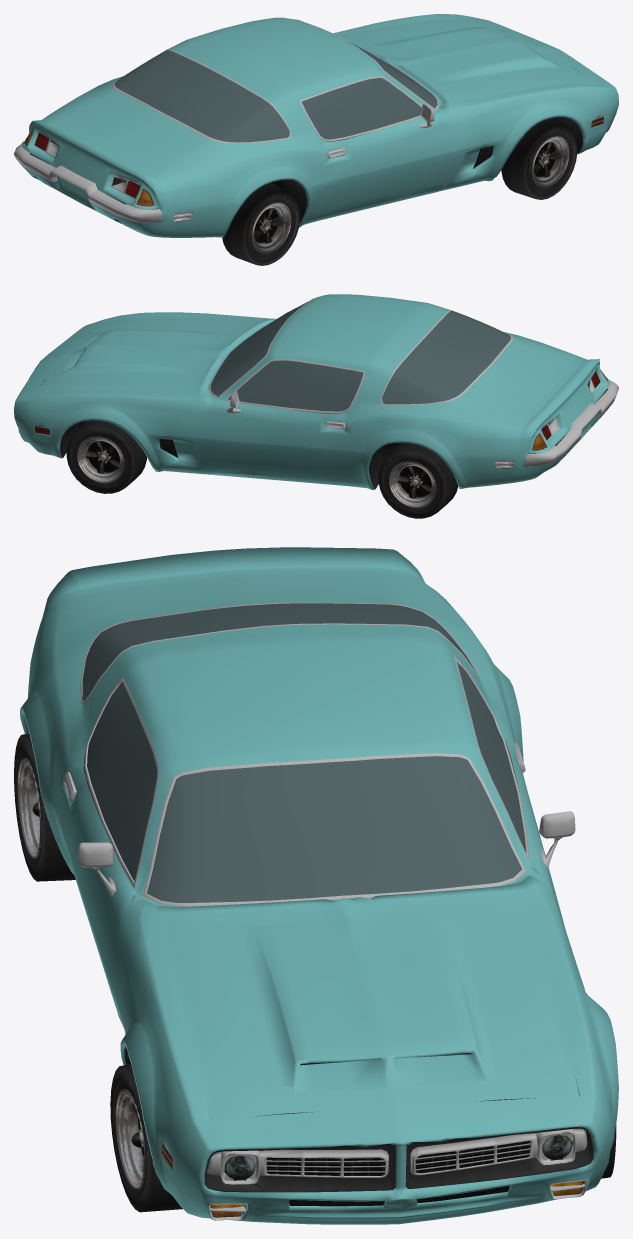
Rendered from car_05.glb.
3 renders of one model, top to bottom at view 1: azimuth 30°, elevation 25°; view 2: azimuth 150°, elevation 25°; view 3: azimuth 270°, elevation 25°, orthographic. The views are drawn at different scales.
Visible parts, largest first — view 1: Body004, Windshield001, Wheel_FL004, Bottom, Bumper_rear, Door_inner_FR, Headlights_glass, Taillights001; view 2: Body004, Windshield001, Wheel_FL004, Bottom, Bumper_rear, Door_inner_FL, Headlights_glass; view 3: Body004, Windshield001, Grill001, Wheel_FL004, Bottom, Door_inner_FR, Door_inner_FL, Headlights_glass.
Part boxes in pixels (x1=…): Body004: x1=18, y1=14, x2=618, y2=237; Windshield001: x1=114, y1=42, x2=437, y2=142; Wheel_FL004: x1=222, y1=118, x2=577, y2=265; Bottom: x1=24, y1=18, x2=604, y2=222; Bumper_rear: x1=14, y1=143, x2=163, y2=222; Door_inner_FR: x1=300, y1=76, x2=434, y2=158; Headlights_glass: x1=24, y1=117, x2=603, y2=205; Taillights001: x1=25, y1=132, x2=153, y2=206; Body004: x1=14, y1=294, x2=612, y2=489; Windshield001: x1=210, y1=301, x2=510, y2=411; Wheel_FL004: x1=66, y1=420, x2=458, y2=518; Bottom: x1=18, y1=296, x2=607, y2=489; Bumper_rear: x1=524, y1=380, x2=618, y2=466; Door_inner_FL: x1=225, y1=359, x2=365, y2=428; Headlights_glass: x1=35, y1=369, x2=607, y2=449; Body004: x1=20, y1=547, x2=618, y2=1224; Windshield001: x1=82, y1=603, x2=526, y2=902; Grill001: x1=204, y1=1127, x2=593, y2=1192; Wheel_FL004: x1=14, y1=733, x2=616, y2=1212; Bottom: x1=24, y1=602, x2=587, y2=1219; Door_inner_FR: x1=63, y1=677, x2=158, y2=900; Door_inner_FL: x1=454, y1=656, x2=575, y2=873; Headlights_glass: x1=162, y1=1134, x2=584, y2=1217.
Bounding box in the file's own units: 4.94 × 1.48 × 2.51.
Materials: 5 (4 with a texture image).
